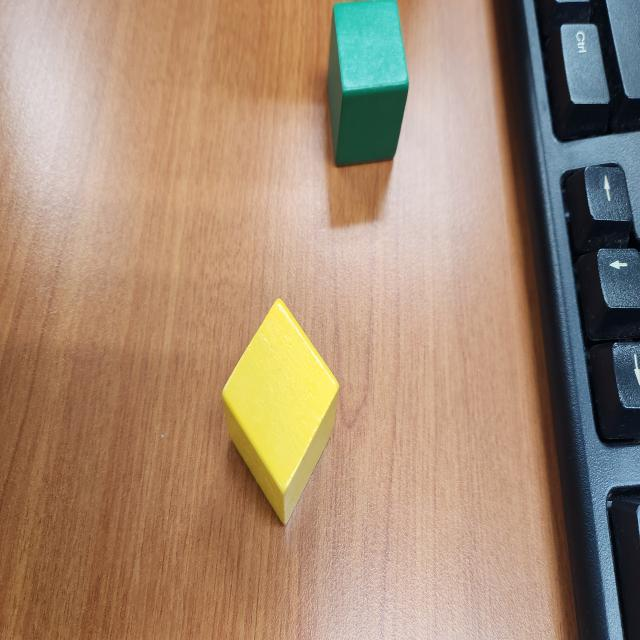green: (326, 2, 409, 167)
yellow: (221, 297, 341, 531)
